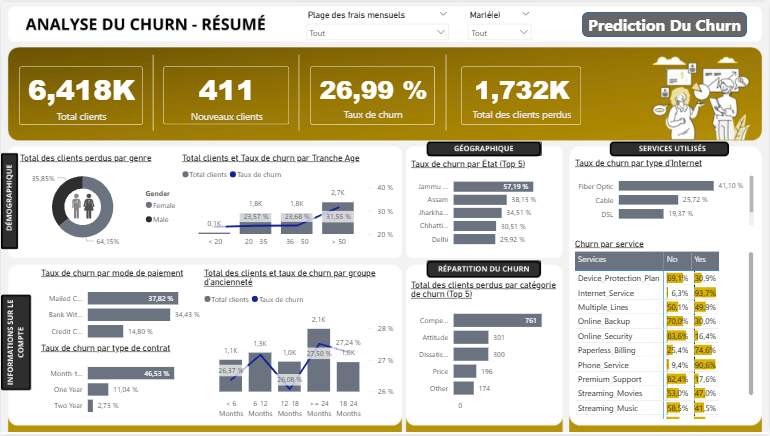

What the dashboard file says about the page in this screenshot:
{"tool":"powerbi","page":{"name":"Résumé","canvas":[1280,720],"ordinal":0},"visuals":[{"type":"image","box":[36,285.1,194.4,109.4],"z":0},{"type":"cardVisual","fields":{"Data":["Table_Mesures.Total clients"]},"box":[14,90,240,132],"z":1000},{"type":"cardVisual","fields":{"Data":["Table_Mesures.Nouveaux clients"]},"box":[253.6,90,244.5,131.8],"z":2000},{"type":"cardVisual","fields":{"Data":["Table_Mesures.Total des clients perdus"]},"box":[750,90,234.4,132.2],"z":3000},{"type":"donutChart","title":"Total des clients perdus par genre","fields":{"Category":["db_churn customer_data.Gender"],"Y":["Table_Mesures.Total des clients perdus"]},"box":[26.7,251.7,280,163.3],"z":4000},{"type":"clusteredBarChart","title":"Taux de churn par mode de paiement","fields":{"Category":["db_churn customer_data.Payment_Method"],"Y":["Table_Mesures.Taux de churn"]},"box":[62,443,280,133],"z":5000},{"type":"clusteredBarChart","title":"Taux de churn par type de contrat","fields":{"Category":["db_churn customer_data.Contract"],"Y":["Table_Mesures.Taux de churn"]},"box":[62,569,280,132],"z":6000},{"type":"lineStackedColumnComboChart","fields":{"Category":["mapping_agegrp.Tranche Age"],"Y":["Table_Mesures.Total clients"],"Y2":["Table_Mesures.Taux de churn"]},"box":[297,252,363,165],"z":7000},{"type":"lineStackedColumnComboChart","title":"Total des clients et taux de churn par groupe d’ancienneté","fields":{"Category":["db_churn customer_data (2).Tenure Group "],"Y":["Table_Mesures.Total clients"],"Y2":["Table_Mesures.Taux de churn"]},"box":[333,443,327,257],"z":8000},{"type":"clusteredBarChart","title":"Taux de churn par État (Top 5)","fields":{"Category":["db_churn customer_data.State"],"Y":["Table_Mesures.Taux de churn"]},"box":[677.5,261.2,253.8,156.2],"z":9000},{"type":"clusteredBarChart","title":"Total des clients perdus par catégorie de churn (Top 5)","fields":{"Category":["db_churn customer_data.Churn_Category"],"Y":["Table_Mesures.Total des clients perdus"]},"box":[678.8,463.8,252.5,236.2],"z":10000},{"type":"clusteredBarChart","title":"Taux de churn par type d’Internet","fields":{"Category":["db_churn customer_data.Internet_Type"],"Y":["Table_Mesures.Taux de churn"]},"box":[951.8,260.6,308.2,118.1],"z":11000},{"type":"slicer","fields":{"Values":["db_churn customer_data.Monthly Charge Range "]},"box":[498.9,8.9,257.8,57.8],"z":12000},{"type":"slicer","fields":{"Values":["db_churn customer_data.Married"]},"box":[768.9,8.9,125.6,57.8],"z":13000},{"type":"cardVisual","fields":{"Data":["Table_Mesures.Taux de churn"]},"box":[498,90,242,132],"z":14000},{"type":"pivotTable","title":"Churn par service","fields":{"Rows":["prod_service2.Services"],"Columns":["prod_service2.Status"],"Values":["Sum(prod_service2.Churn Status )"]},"box":[951.8,394.6,308.2,305.3],"z":16000},{"type":"shape","box":[968.3,16.7,275,41.7],"z":16001}]}

Visuals, with their boxes in screenshot pixels (x1, y1, x2, y2), scaled from the page's 1280x720 canvas onto the 770x436 screenshot:
image: box=[22, 173, 139, 239]
cardVisual - Table_Mesures.Total clients: box=[8, 54, 153, 134]
cardVisual - Table_Mesures.Nouveaux clients: box=[153, 54, 300, 134]
cardVisual - Table_Mesures.Total des clients perdus: box=[451, 54, 592, 135]
"Total des clients perdus par genre" donutChart: box=[16, 152, 184, 251]
"Taux de churn par mode de paiement" clusteredBarChart: box=[37, 268, 206, 349]
"Taux de churn par type de contrat" clusteredBarChart: box=[37, 345, 206, 424]
lineStackedColumnComboChart - mapping_agegrp.Tranche Age x Table_Mesures.Total clients: box=[179, 153, 397, 253]
"Total des clients et taux de churn par groupe d’ancienneté" lineStackedColumnComboChart: box=[200, 268, 397, 424]
"Taux de churn par État (Top 5)" clusteredBarChart: box=[408, 158, 560, 253]
"Total des clients perdus par catégorie de churn (Top 5)" clusteredBarChart: box=[408, 281, 560, 424]
"Taux de churn par type d’Internet" clusteredBarChart: box=[573, 158, 758, 229]
slicer - db_churn customer_data.Monthly Charge Range : box=[300, 5, 455, 40]
slicer - db_churn customer_data.Married: box=[463, 5, 538, 40]
cardVisual - Table_Mesures.Taux de churn: box=[300, 54, 445, 134]
"Churn par service" pivotTable: box=[573, 239, 758, 424]
shape: box=[582, 10, 748, 35]
